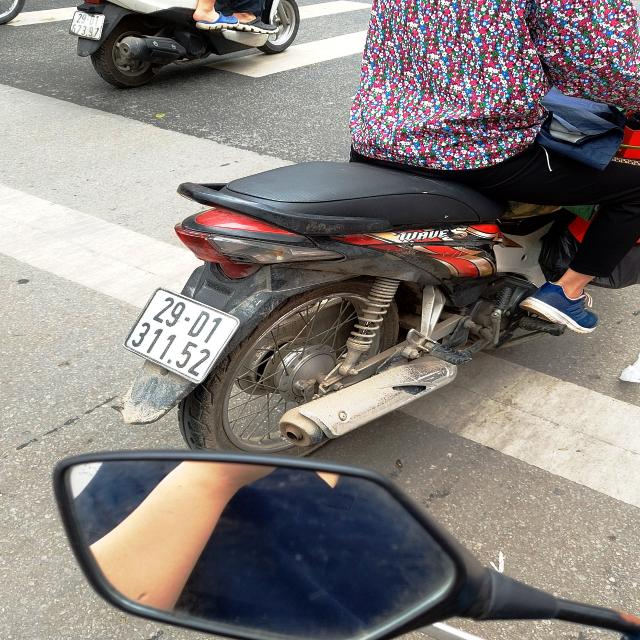license_plate: (118, 284, 247, 389)
